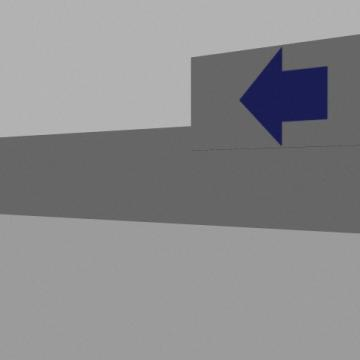blue_left: (240, 48, 327, 145)
